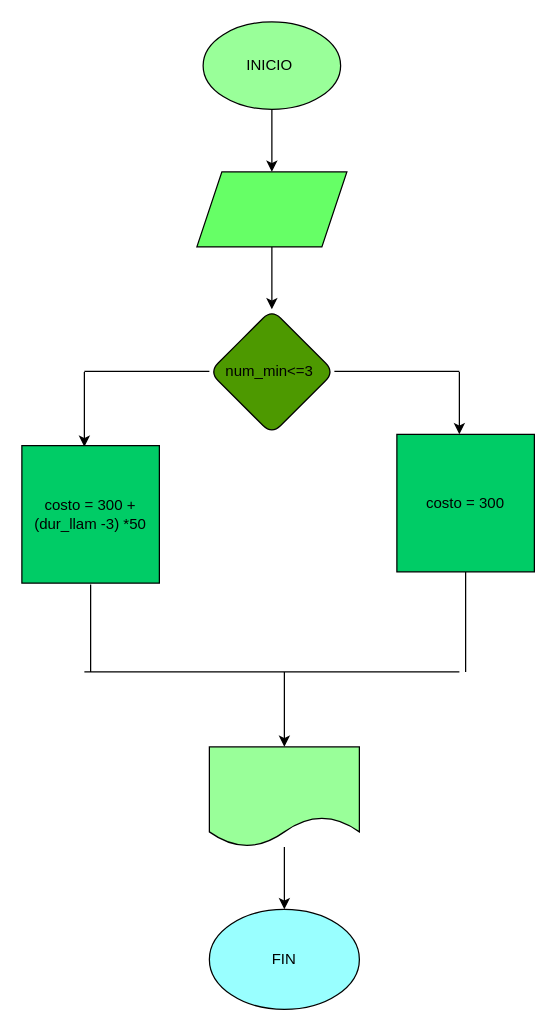
Image size: 556x1031. Some labels were removed from this diagram. Each missing label, with the centre of its shape:
"costo _llamada" goes at [283,796].
"dur_llam" goes at [271,209].
